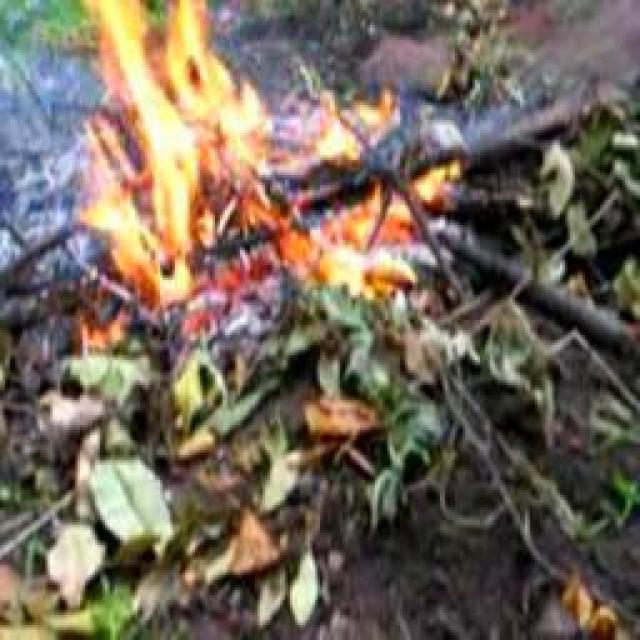Fire: (89, 3, 283, 309), (297, 97, 408, 301)
